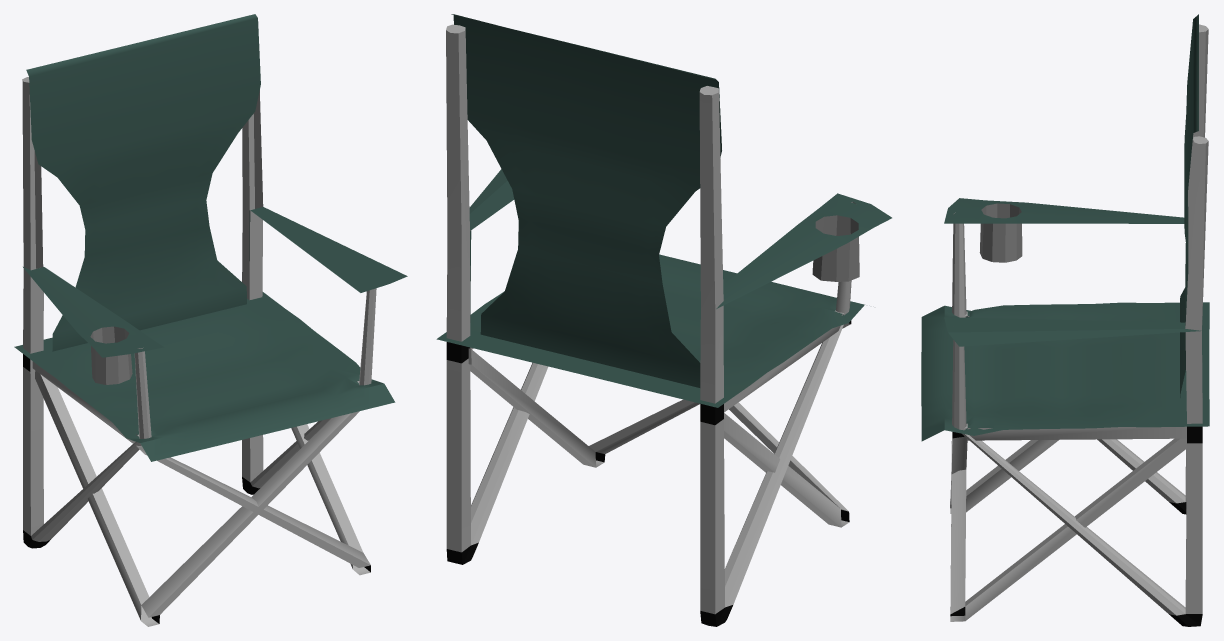
Rendered from chair.fbx.
The picture shows the model from 3 angles, left to right: view 1: azimuth 30°, elevation 25°; view 2: azimuth 150°, elevation 25°; view 3: azimuth 270°, elevation 25°; orthographic projection. The views are drawn at different scales.
Parts seen in each view (by area): view 1: pPlane1; view 2: pPlane1; view 3: pPlane1.
Part boxes in pixels (x1,y1,x2,y2): pPlane1: (14, 14, 407, 626); pPlane1: (436, 14, 891, 626); pPlane1: (921, 14, 1209, 626).
Bounding box in the file's own units: 3.68 × 5.44 × 2.88.
